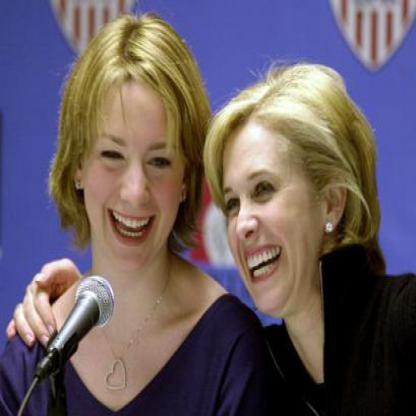face: (82, 31, 189, 274), (215, 94, 327, 321)
